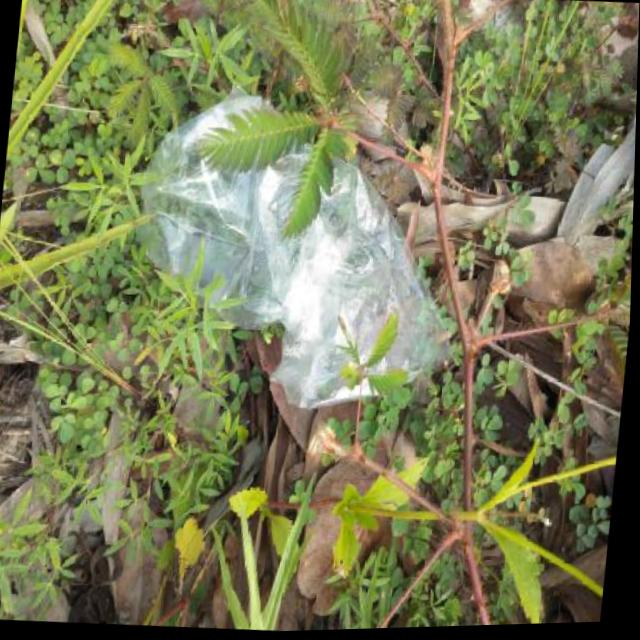plastic: (120, 71, 478, 424)
